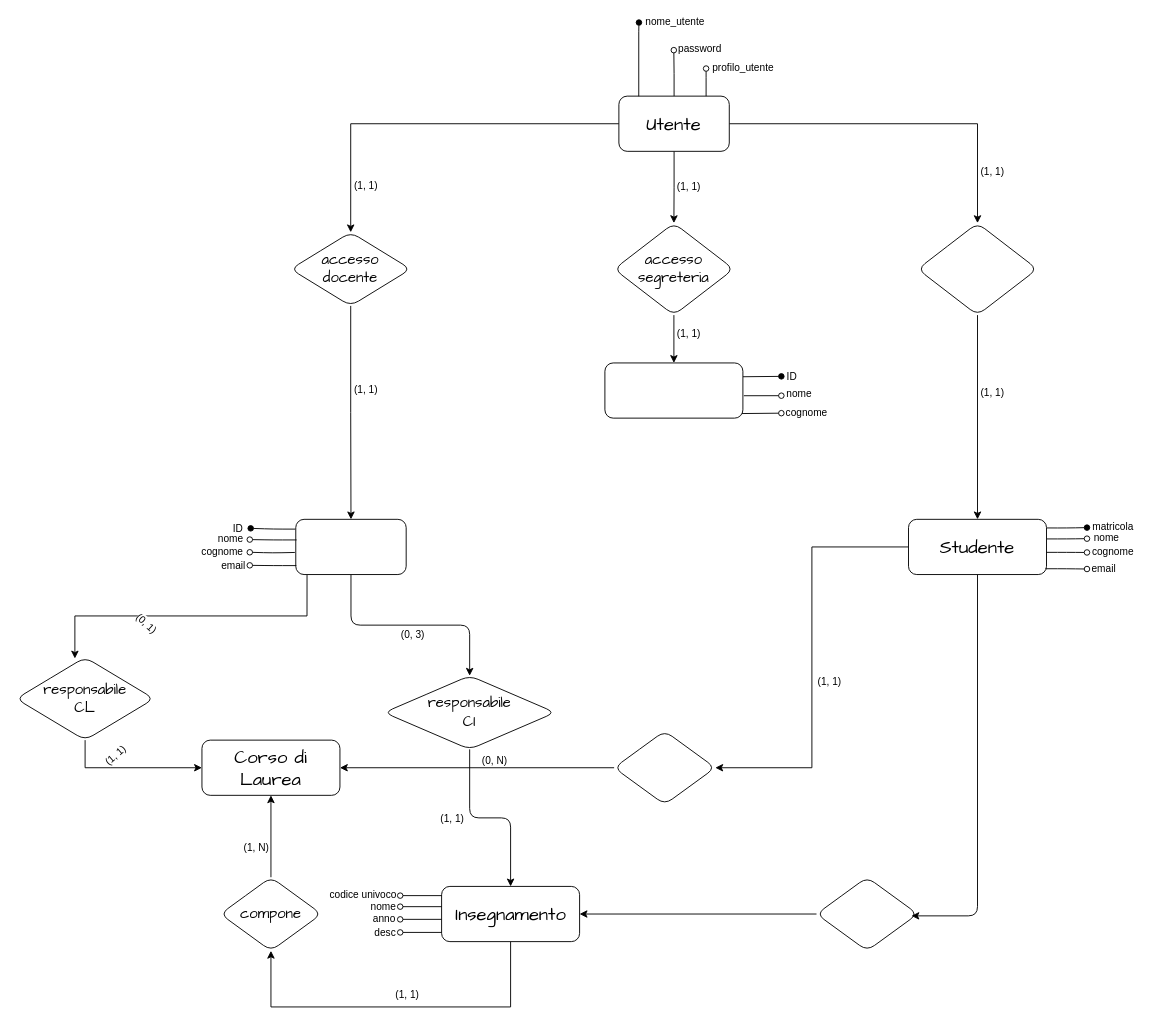
Image size: 1149x1030. Some labels were removed from this diagram. Each missing label, with the centre of its shape:
accesso studente: the point at 977,268
Docente: the point at 350,546
frequenta: the point at 867,913
iscrizione: the point at 664,767
Segreteria: the point at 673,390
